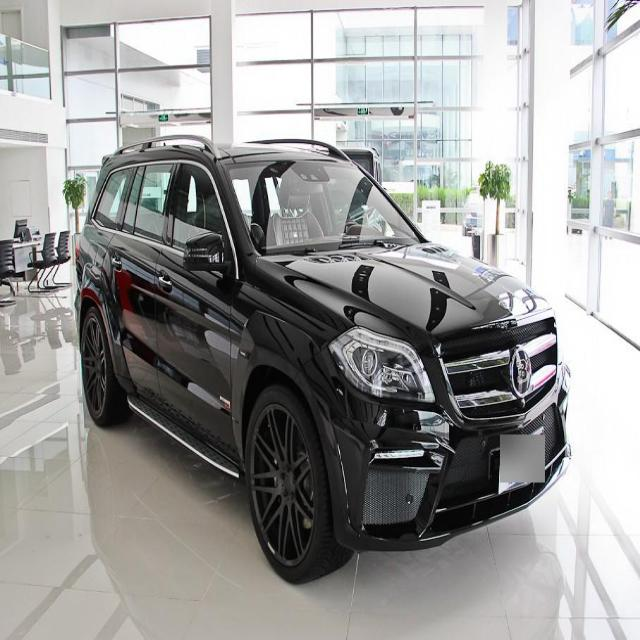door: (109, 156, 176, 396)
front_bumper: (294, 359, 574, 550)
front_glass: (224, 160, 424, 258)
front_right_side_door: (152, 154, 240, 472)
front_right_side_light: (326, 324, 436, 406)
front_right_side_mirror: (183, 232, 231, 279)
wheel: (244, 381, 354, 586), (80, 305, 132, 428)
